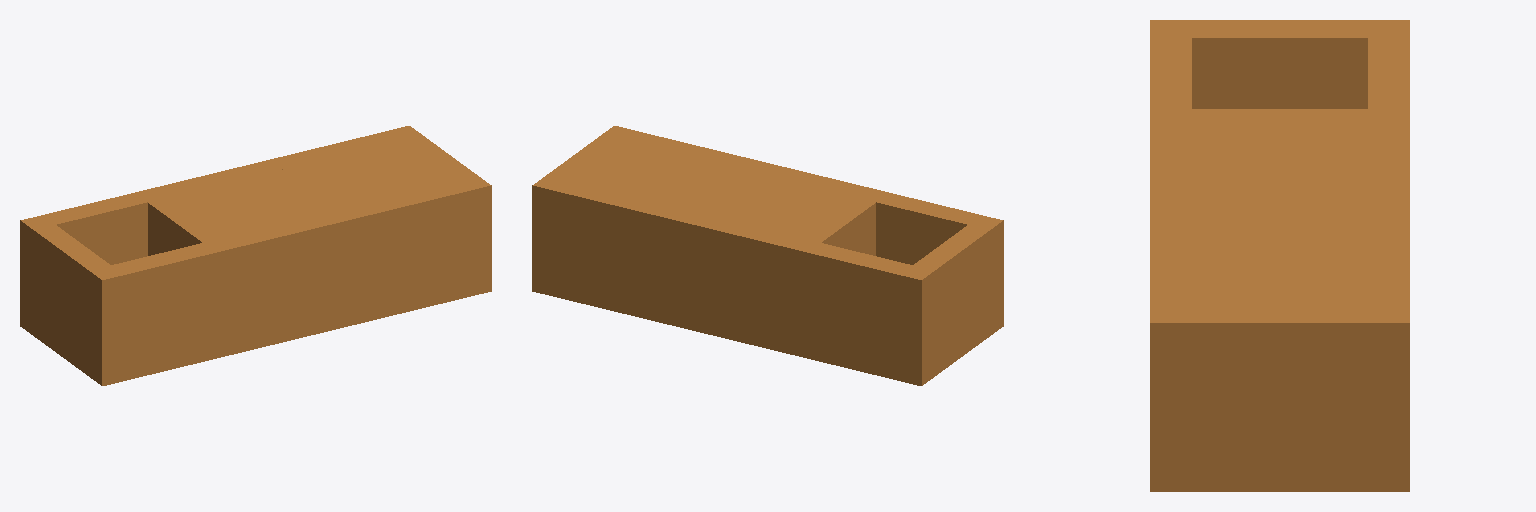
URDF robot description (part_2_sdf_hybrid_scale_050):
<?xml version='1.0' encoding='utf-8'?>
<robot name="part_2_sdf_hybrid_scale_050">
  <link name="plate">
    <visual>
      <origin xyz="-0 0.011169 0.009525" rpy="0.000000 0.000000 0.000000" />
      <geometry>
        <box size="0.073125 0.0043325 0.01905" />
      </geometry>
      <material name="bulk" />
    </visual>
    <collision>
      <origin xyz="-0 0.011169 0.009525" rpy="0.000000 0.000000 0.000000" />
      <geometry>
        <box size="0.073125 0.0043325 0.01905" />
      </geometry>
    </collision>
    <visual>
      <origin xyz="-0 -0.0111685 0.009525" rpy="0.000000 0.000000 0.000000" />
      <geometry>
        <box size="0.073125 0.0043325 0.01905" />
      </geometry>
      <material name="bulk" />
    </visual>
    <collision>
      <origin xyz="-0 -0.0111685 0.009525" rpy="0.000000 0.000000 0.000000" />
      <geometry>
        <box size="0.073125 0.0043325 0.01905" />
      </geometry>
    </collision>
    <visual>
      <origin xyz="-0.034492 -0 0.009525" rpy="0.000000 0.000000 0.000000" />
      <geometry>
        <box size="0.004141 0.018005 0.01905" />
      </geometry>
      <material name="bulk" />
    </visual>
    <collision>
      <origin xyz="-0.034492 -0 0.009525" rpy="0.000000 0.000000 0.000000" />
      <geometry>
        <box size="0.004141 0.018005 0.01905" />
      </geometry>
    </collision>
    <visual>
      <origin xyz="0.0106975 -0 0.009525" rpy="0.000000 0.000000 0.000000" />
      <geometry>
        <box size="0.0517295 0.018005 0.01905" />
      </geometry>
      <material name="bulk" />
    </visual>
    <collision>
      <origin xyz="0.0106975 -0 0.009525" rpy="0.000000 0.000000 0.000000" />
      <geometry>
        <box size="0.0517295 0.018005 0.01905" />
      </geometry>
    </collision>
    <visual>
      <origin xyz="-0 -0 0.009499" rpy="0.000000 0.000000 0.000000" />
      <geometry>
        <mesh filename="../6/sdf_hybrid/6_hole_patch_for_part_2.obj" scale="0.5 0.5 0.5" />
      </geometry>
      <material name="hole" />
    </visual>
    <collision>
      <origin xyz="-0 -0 0.009499" rpy="0.000000 0.000000 0.000000" />
      <geometry>
        <mesh filename="../6/sdf_hybrid/6_hole_patch_for_part_2.obj" scale="0.5 0.5 0.5" />
      </geometry>
      <sdf resolution="256" />
    </collision>
  </link>
  <material name="bulk">
    <color rgba="0.78 0.55 0.30 1.0" />
  </material>
  <material name="hole">
    <color rgba="0.30 0.65 0.85 1.0" />
  </material>
</robot>

--- What the picture shows (computed from the rendered views, not written in the file) ---
3 views of the same robot in one strip: view 1: azimuth 30°, elevation 25°; view 2: azimuth 150°, elevation 25°; view 3: azimuth 270°, elevation 25° (orthographic).
Robot: part_2_sdf_hybrid_scale_050 — 1 links, 0 joints (none); root link plate; default pose: every joint at zero.
Links seen in each view (by area): view 1: plate; view 2: plate; view 3: plate.
Boxes of the visible links, <box> form: plate: <box>20,126,491,385</box>; plate: <box>532,126,1003,385</box>; plate: <box>1150,20,1409,491</box>.
Bounding box of the posed robot: 0.0731 × 0.0267 × 0.0191 m (x, y, z).
Meshes: 1 distinct files referenced, 0 mesh visuals loaded (none loaded); not drawn: 1 (reference not matched to a file when rendering).
